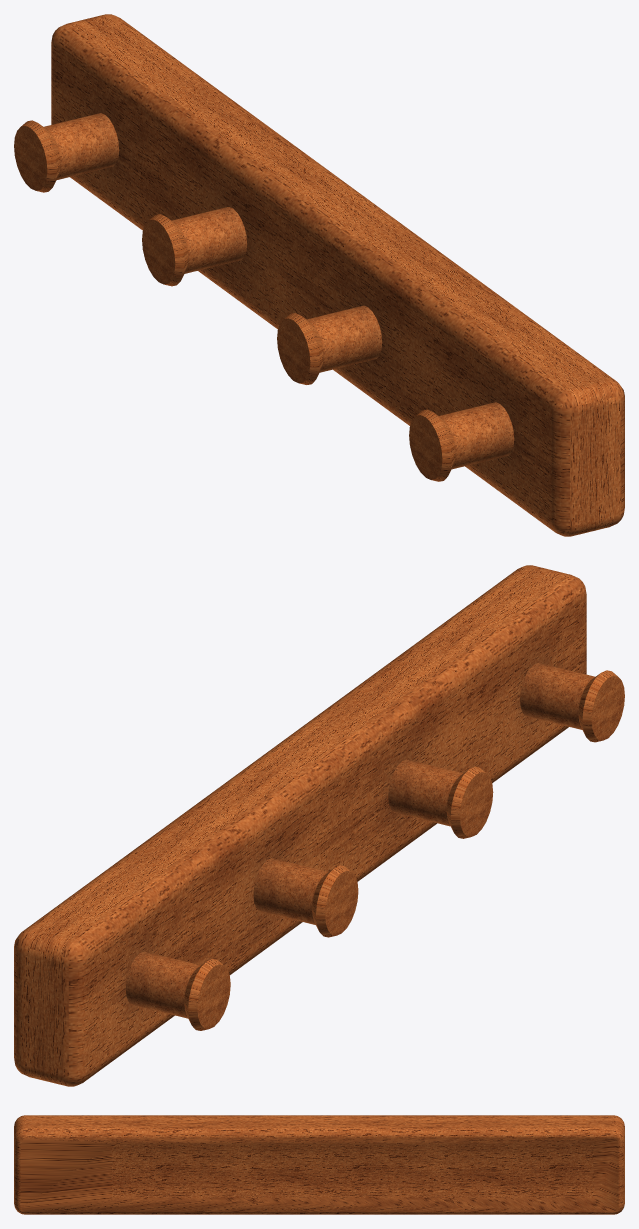
Rendered from hanger_M.fbx.
3 renders of one model, top to bottom at view 1: azimuth 30°, elevation 25°; view 2: azimuth 150°, elevation 25°; view 3: azimuth 270°, elevation 25°, orthographic. The views are drawn at different scales.
Parts seen in each view (by area): view 1: pCylinder6; view 2: pCylinder6; view 3: pCylinder6.
Part boxes in pixels (<box>): pCylinder6: <box>14,14,624,536</box>; pCylinder6: <box>14,565,624,1086</box>; pCylinder6: <box>14,1115,624,1214</box>.
Bounding box in the file's own units: 0.0497 × 0.0478 × 0.3068.
